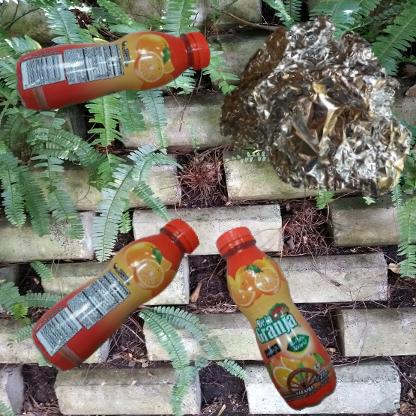aluminio: (213, 10, 416, 209)
botella: (10, 213, 278, 414), (213, 213, 359, 416), (10, 10, 226, 138)
